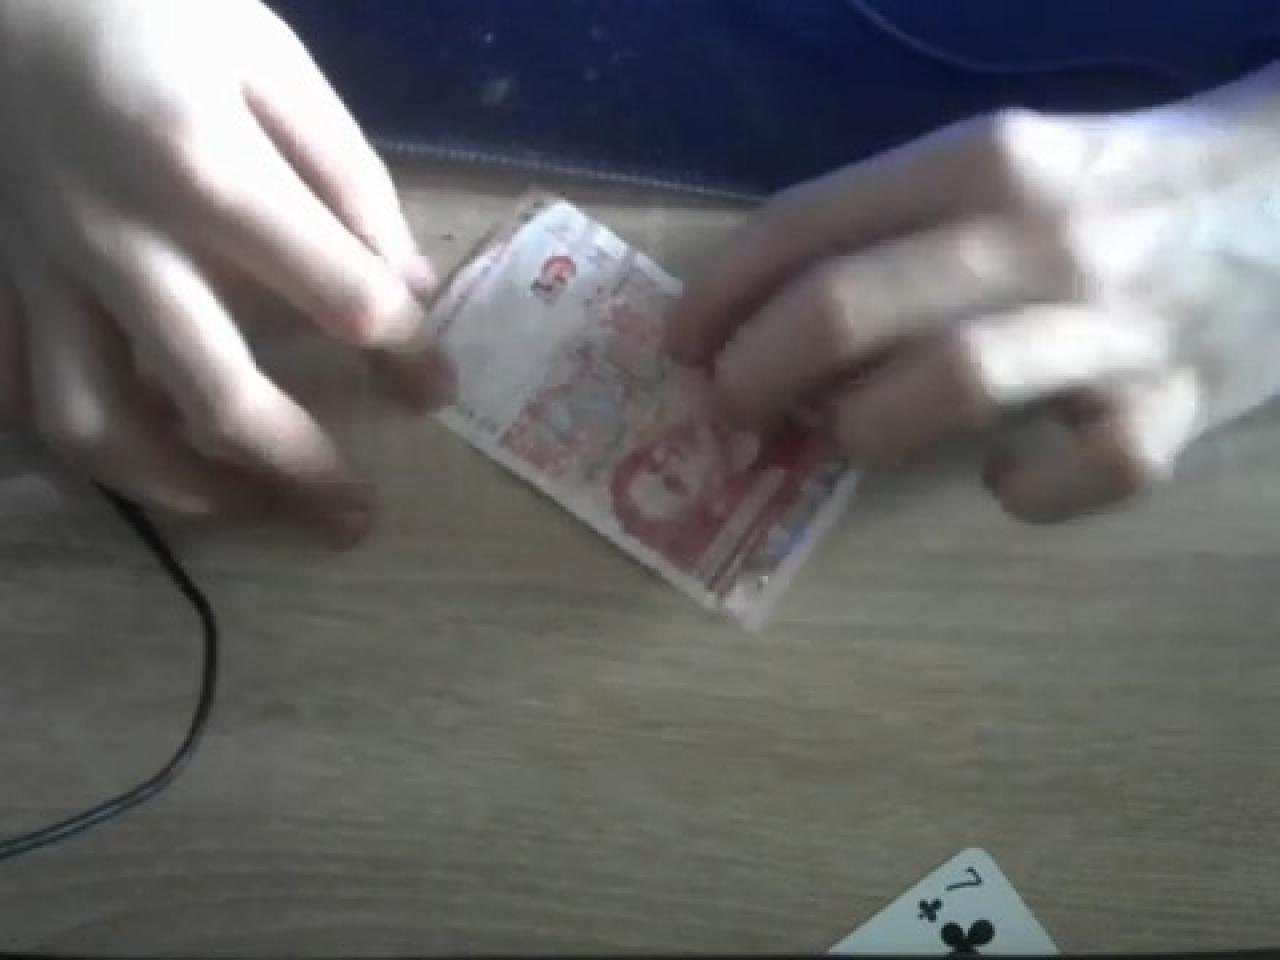5leva: (376, 195, 862, 634)
